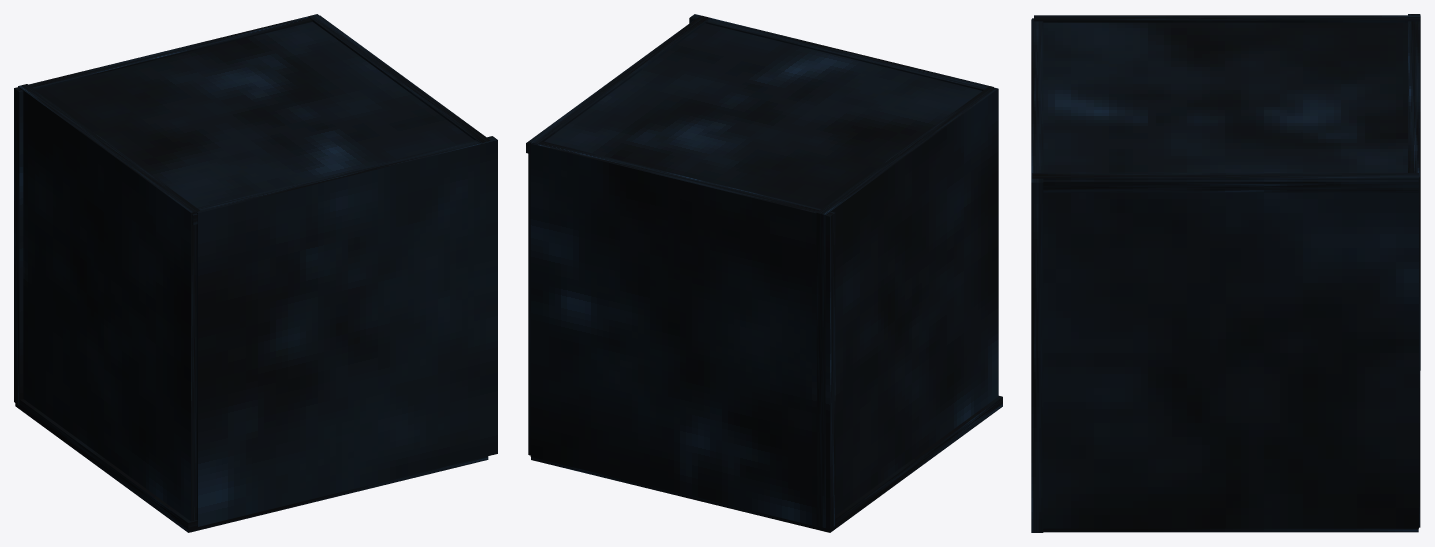
Rendered from sky.obj.
3 renders of one model, left to right at view 1: azimuth 30°, elevation 25°; view 2: azimuth 150°, elevation 25°; view 3: azimuth 270°, elevation 25°, orthographic. The views are drawn at different scales.
Parts seen in each view (by area): view 1: ???.3, ???.4, ???.5, ???.1, ???.6, ???.2; view 2: ???.1, ???.4, ???.5, ???.6, ???.2, ???.3; view 3: ???.2, ???.5, ???.3, ???.4, ???.1, ???.6.
Part boxes in pixels (<box>): ???.3: <box>196,136,497,526</box>; ???.4: <box>18,84,200,521</box>; ???.5: <box>35,15,486,224</box>; ???.1: <box>14,16,312,405</box>; ???.6: <box>15,399,488,532</box>; ???.2: <box>308,14,490,143</box>; ???.1: <box>530,141,835,529</box>; ???.4: <box>816,86,998,527</box>; ???.5: <box>526,20,981,208</box>; ???.6: <box>531,396,1002,532</box>; ???.2: <box>528,15,710,455</box>; ???.3: <box>689,14,993,90</box>; ???.2: <box>1032,173,1418,528</box>; ???.5: <box>1032,18,1418,192</box>; ???.3: <box>1031,19,1043,532</box>; ???.4: <box>1034,15,1420,370</box>; ???.1: <box>1408,14,1420,527</box>; ???.6: <box>1043,528,1418,532</box>.
Bounding box in the file's own units: 207 × 203 × 201.
